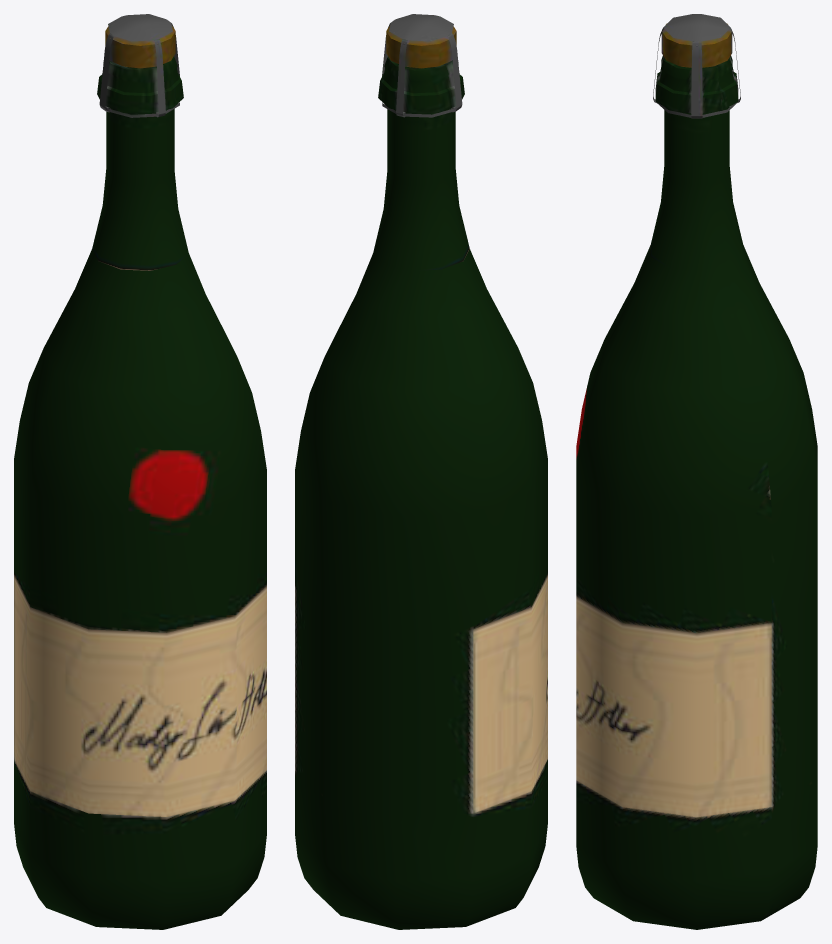
Rendered from champagne_edited.gltf.
3 renders of one model, left to right at view 1: azimuth 30°, elevation 25°; view 2: azimuth 150°, elevation 25°; view 3: azimuth 270°, elevation 25°, orthographic.
Parts seen in each view (by area): view 1: Glass_low, Label_low, MetalBit_low, Cork_low; view 2: Glass_low, Label_low, MetalBit_low, Cork_low; view 3: Glass_low, Label_low, MetalBit_low, Cork_low.
Boxes of the visible parts, bbox=[...] form: Glass_low: bbox=[14, 56, 266, 929]; Label_low: bbox=[14, 575, 266, 816]; MetalBit_low: bbox=[99, 14, 179, 117]; Cork_low: bbox=[105, 24, 175, 68]; Glass_low: bbox=[295, 56, 547, 929]; Label_low: bbox=[473, 575, 547, 813]; MetalBit_low: bbox=[382, 14, 462, 117]; Cork_low: bbox=[386, 24, 456, 68]; Glass_low: bbox=[576, 55, 817, 929]; Label_low: bbox=[576, 596, 771, 817]; MetalBit_low: bbox=[653, 14, 740, 118]; Cork_low: bbox=[661, 23, 732, 67].
Size of the model in its own units: 0.534 by 2 by 0.5079.
1 material, 1 textured.
